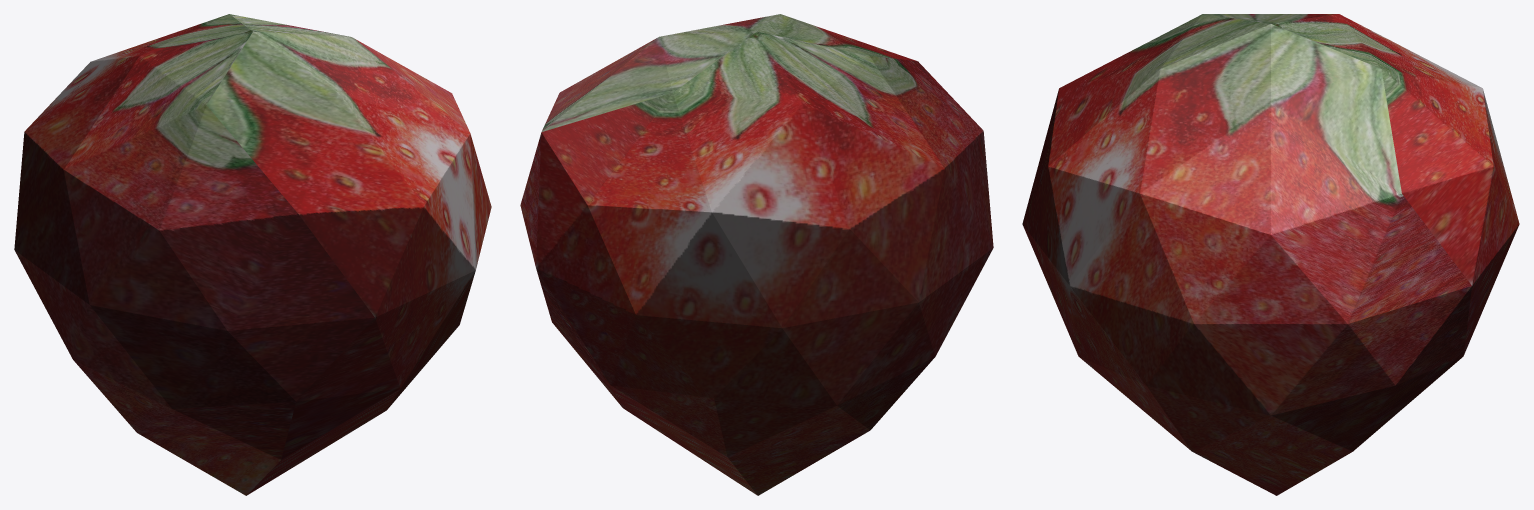
Rendered from strawberry.glb.
3 renders of one model, left to right at view 1: azimuth 30°, elevation 25°; view 2: azimuth 150°, elevation 25°; view 3: azimuth 270°, elevation 25°, orthographic. The views are drawn at different scales.
Visible parts, largest first — view 1: Icosphere; view 2: Icosphere; view 3: Icosphere.
Part boxes in pixels (x1,y1,x2,y2): Icosphere: (14,14,491,495); Icosphere: (520,14,993,495); Icosphere: (1022,14,1519,495).
Bounding box in the file's own units: 0.8534 × 0.9441 × 0.8973.
Materials: 1 (1 with a texture image).
